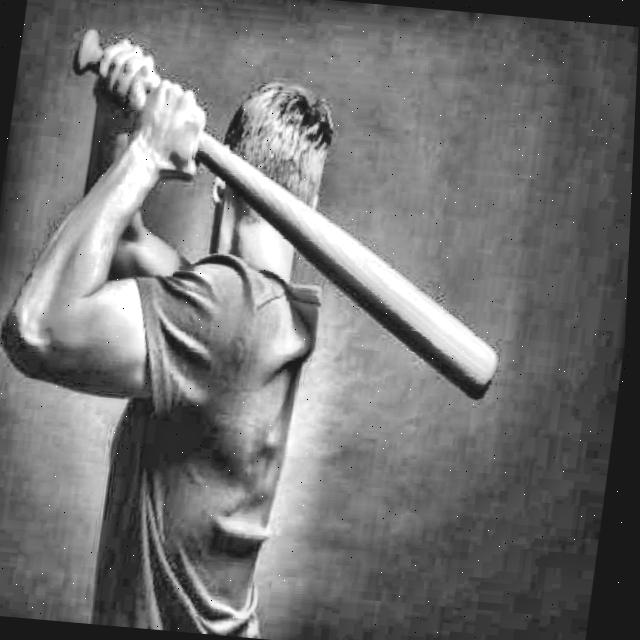tongkat pemukul: (67, 21, 509, 405)
